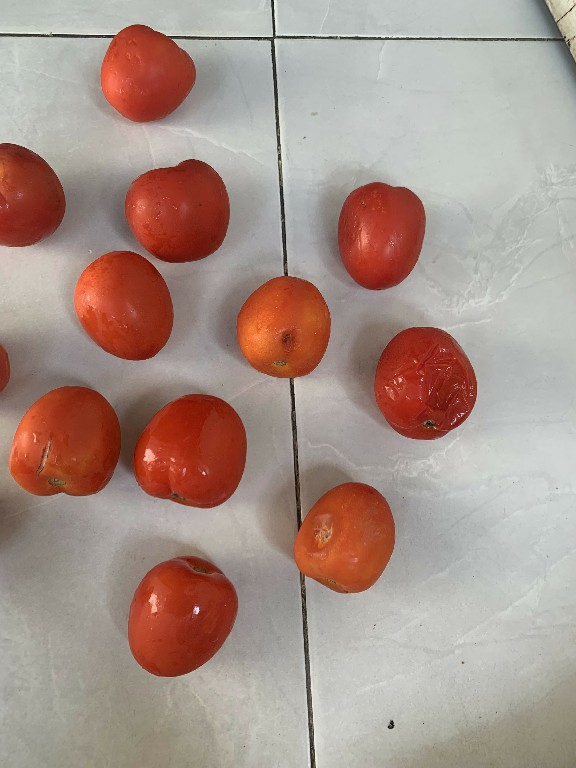NG: (3, 374, 127, 507), (286, 476, 405, 604), (367, 320, 480, 445), (234, 271, 344, 392)
OK: (122, 553, 250, 685), (129, 387, 251, 516), (71, 248, 182, 366), (122, 157, 237, 265), (94, 19, 200, 134), (333, 175, 424, 291), (0, 130, 72, 259)
